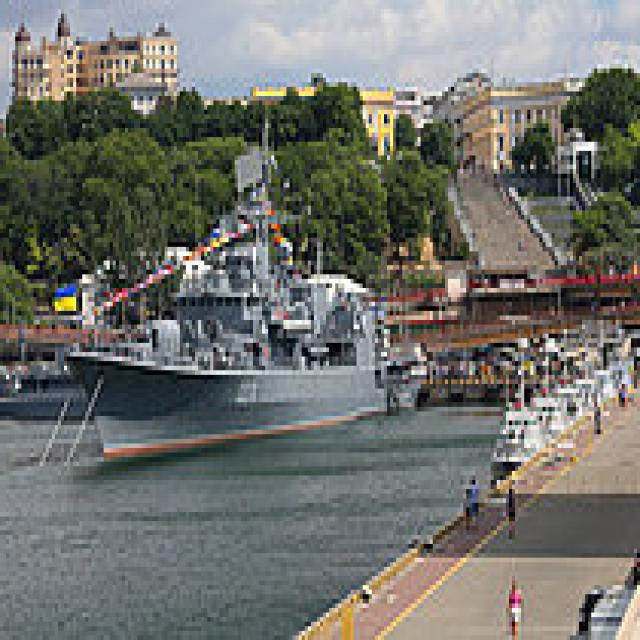Warship: (67, 101, 430, 457)
